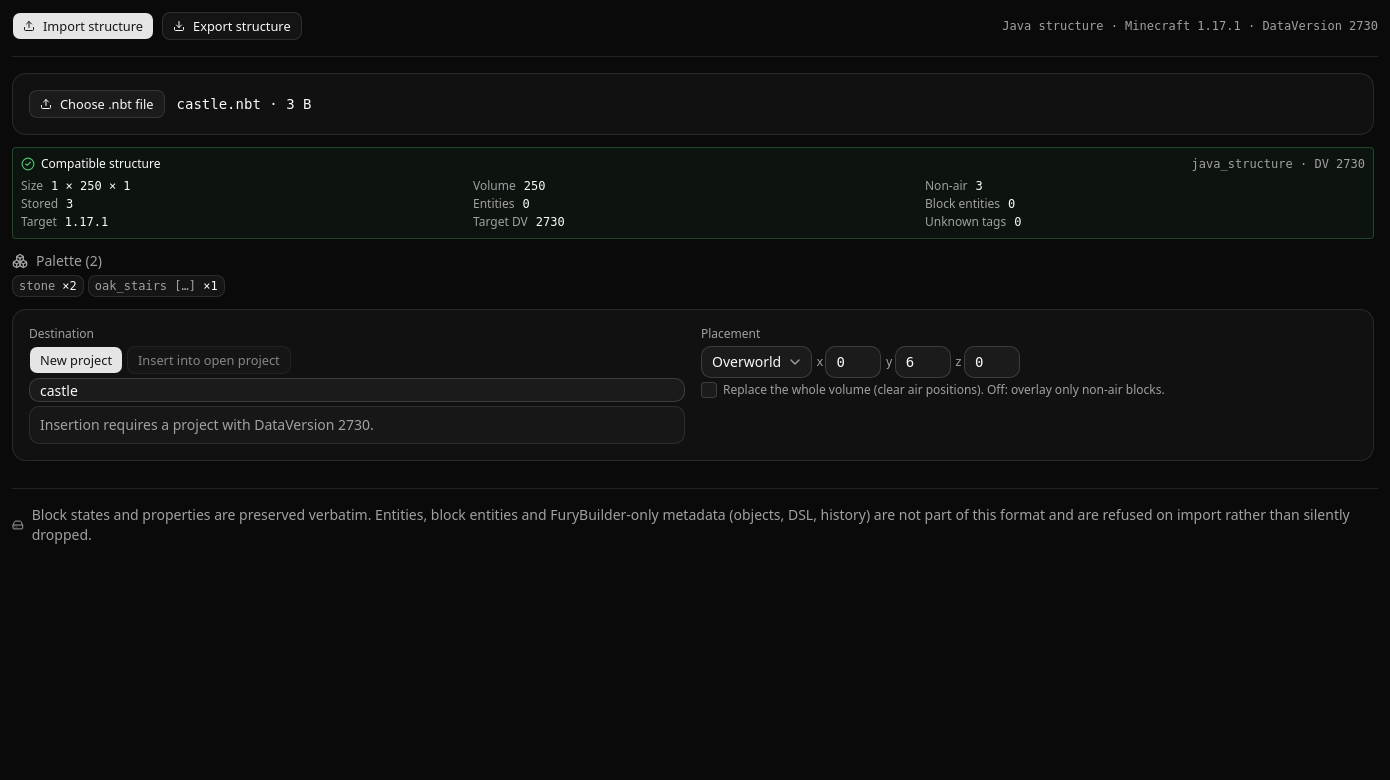
Test: structure exchange › defaults a flattened file to a new matching project and uses its height for placement
Earlier steps of the test are not shown.
Later steps or results of the test are not shown.
expect the number field named "Origin y" holds "6": met, box [895,346,951,378]
expect the button "Insert into open project" is disabled: met, box [127,346,291,374]
Click the dropdown named "Import dimension" at (757, 362), box [701,346,812,378]
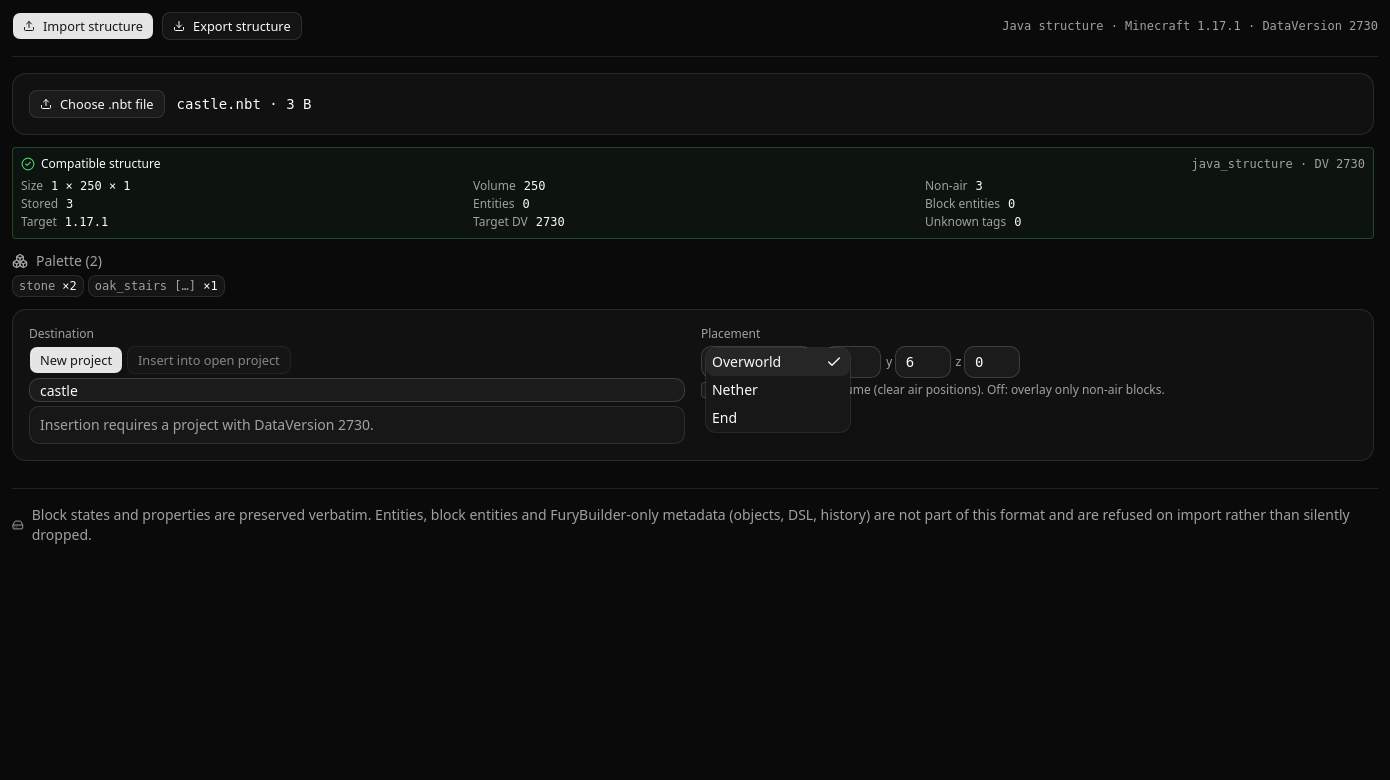
Click the option "Nether" at (735, 390), box [712,380,758,399]
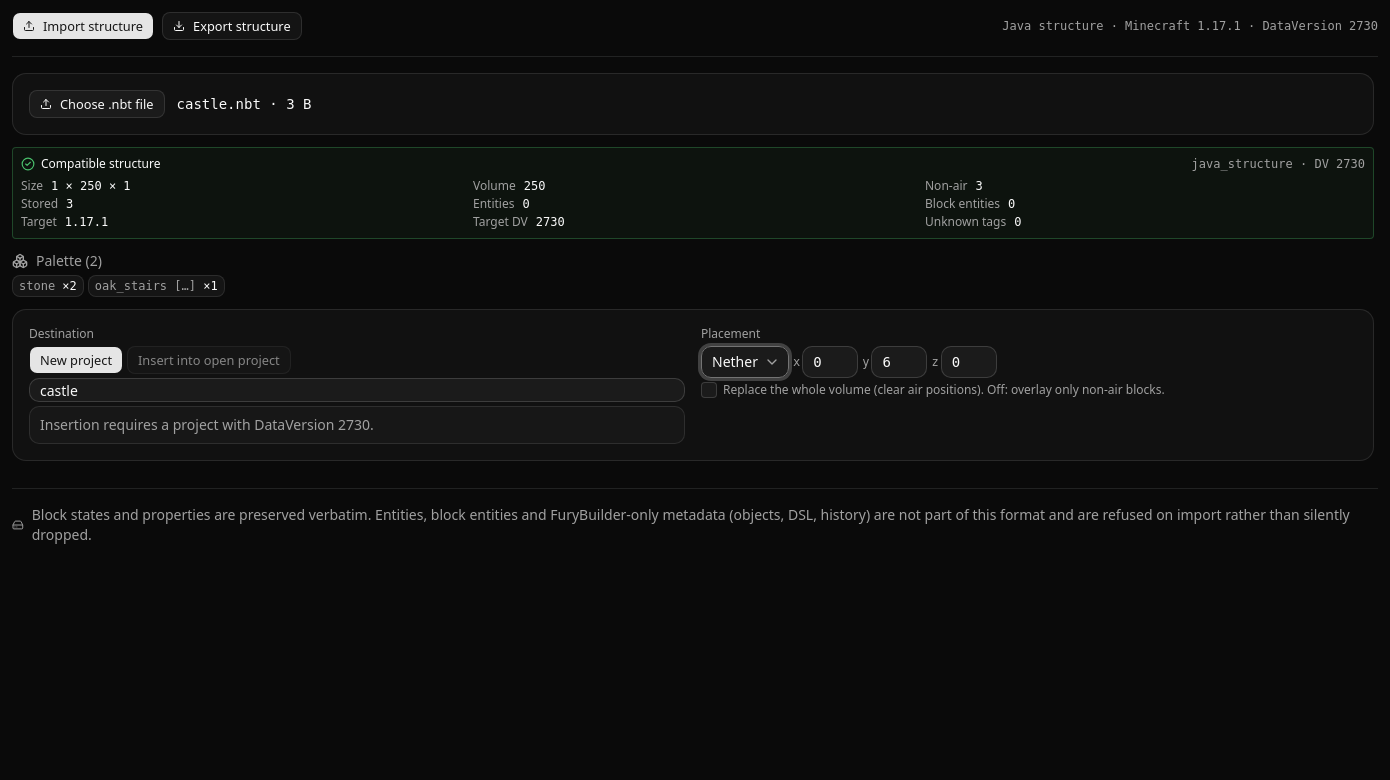
Replace the text in the number field named "Origin y" with "7" at (899, 362), box [871,346,927,378]
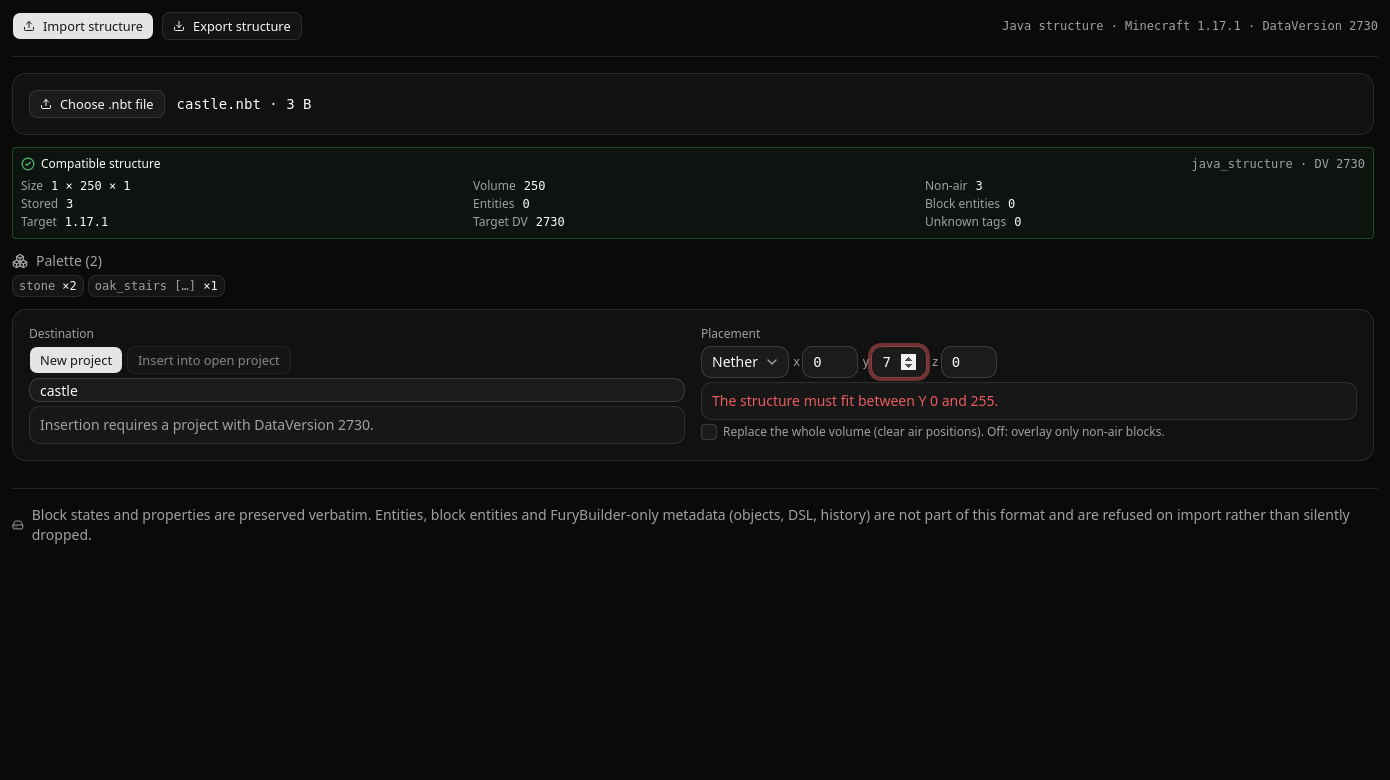
expect the text "The structure must fit between Y 0 and 255." is shown: met, box [712,391,998,410]
